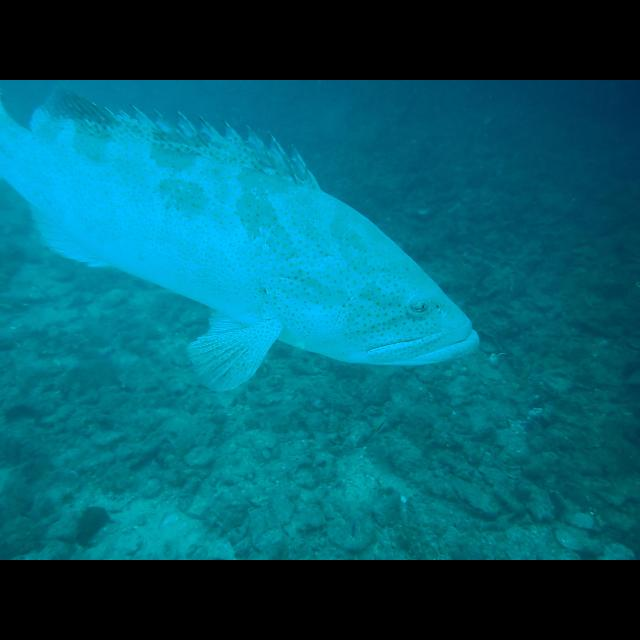Groupers: (1, 80, 480, 392)
